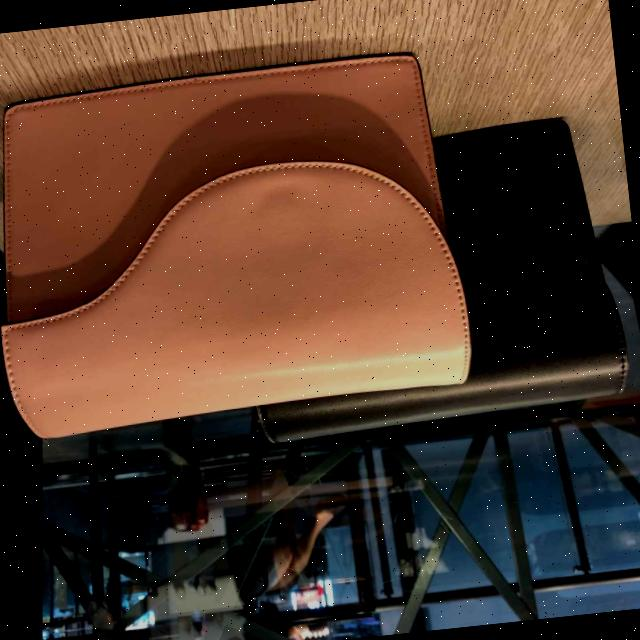Handbag: (0, 43, 478, 435)
